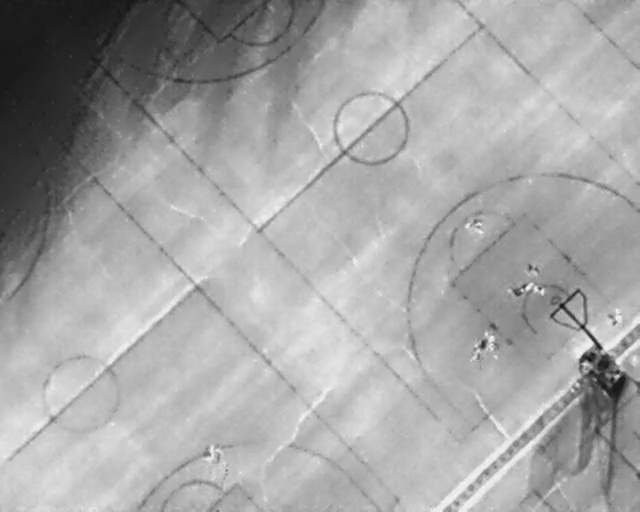Person: (465, 334, 493, 363), (508, 276, 538, 300), (463, 213, 490, 237), (199, 444, 226, 465), (605, 306, 625, 329), (528, 280, 548, 299), (524, 261, 543, 278), (483, 332, 497, 351)
